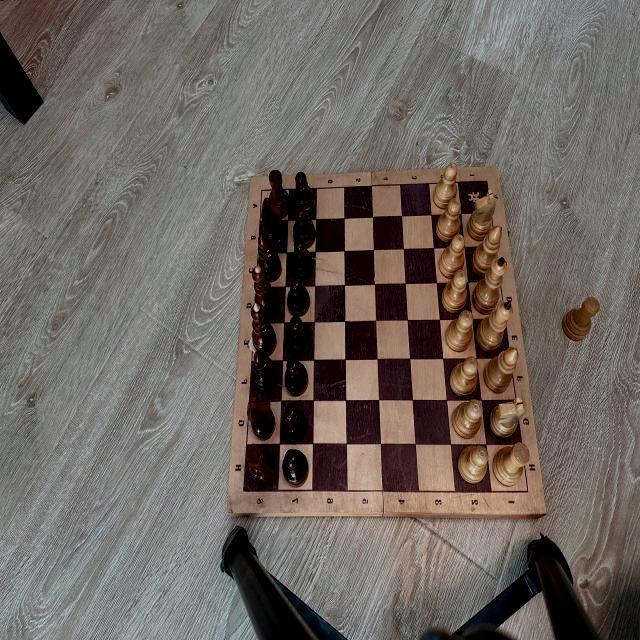chess-table-corners: (523, 486, 531, 496), (239, 486, 248, 494), (484, 177, 491, 186), (260, 187, 264, 194)
